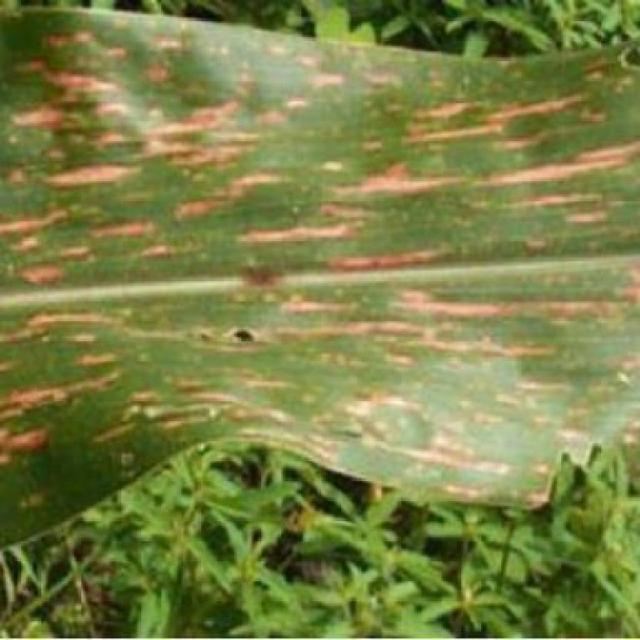Corn_Grey_Leaf_Spot: (11, 9, 640, 494)
